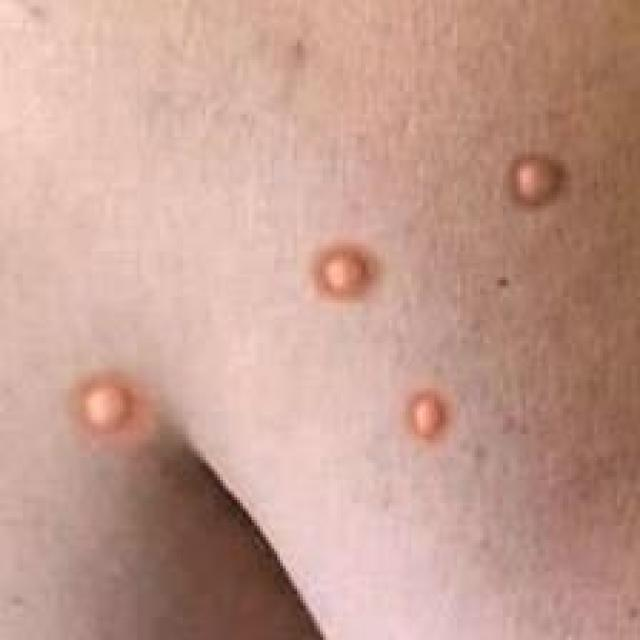monkeypox: (45, 36, 632, 622)
